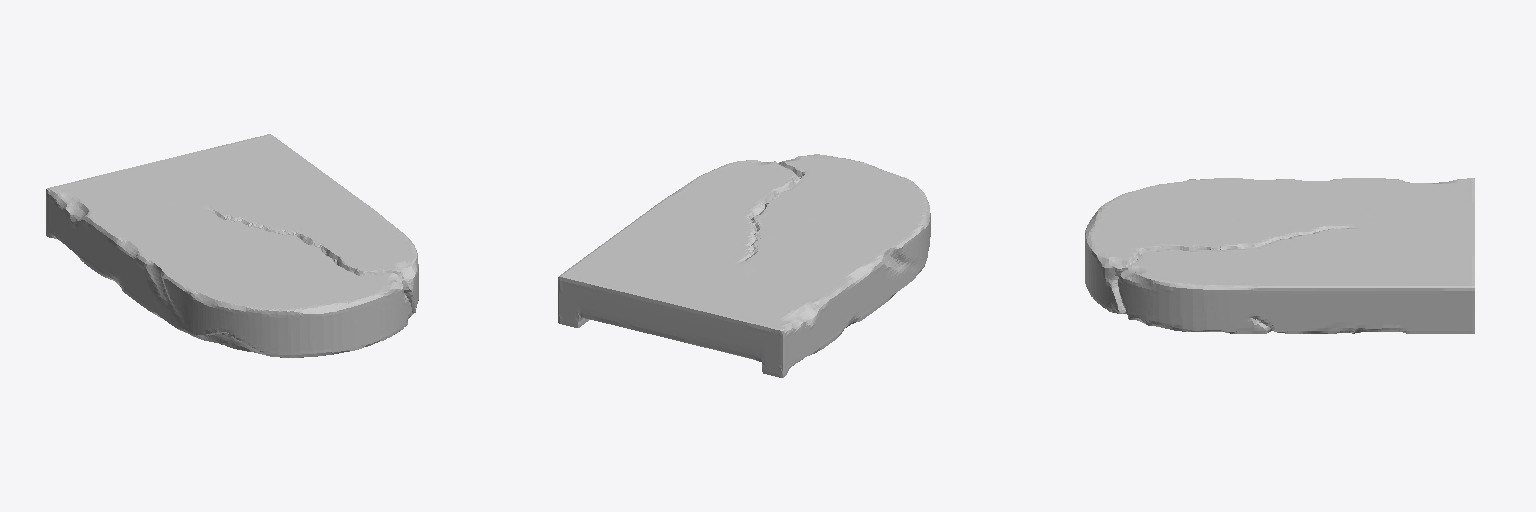
Rendered from tombe1.obj.
The picture shows the model from 3 angles: view 1: azimuth 30°, elevation 25°; view 2: azimuth 150°, elevation 25°; view 3: azimuth 270°, elevation 25°; orthographic projection.
Visible parts, largest first — view 1: tombe1; view 2: tombe1; view 3: tombe1.
Boxes of the visible parts, x1=… form: tombe1: x1=46, y1=134, x2=418, y2=357; tombe1: x1=558, y1=154, x2=930, y2=377; tombe1: x1=1085, y1=178, x2=1474, y2=333.
Bounding box in the file's own units: 5.36 × 1.08 × 8.02.